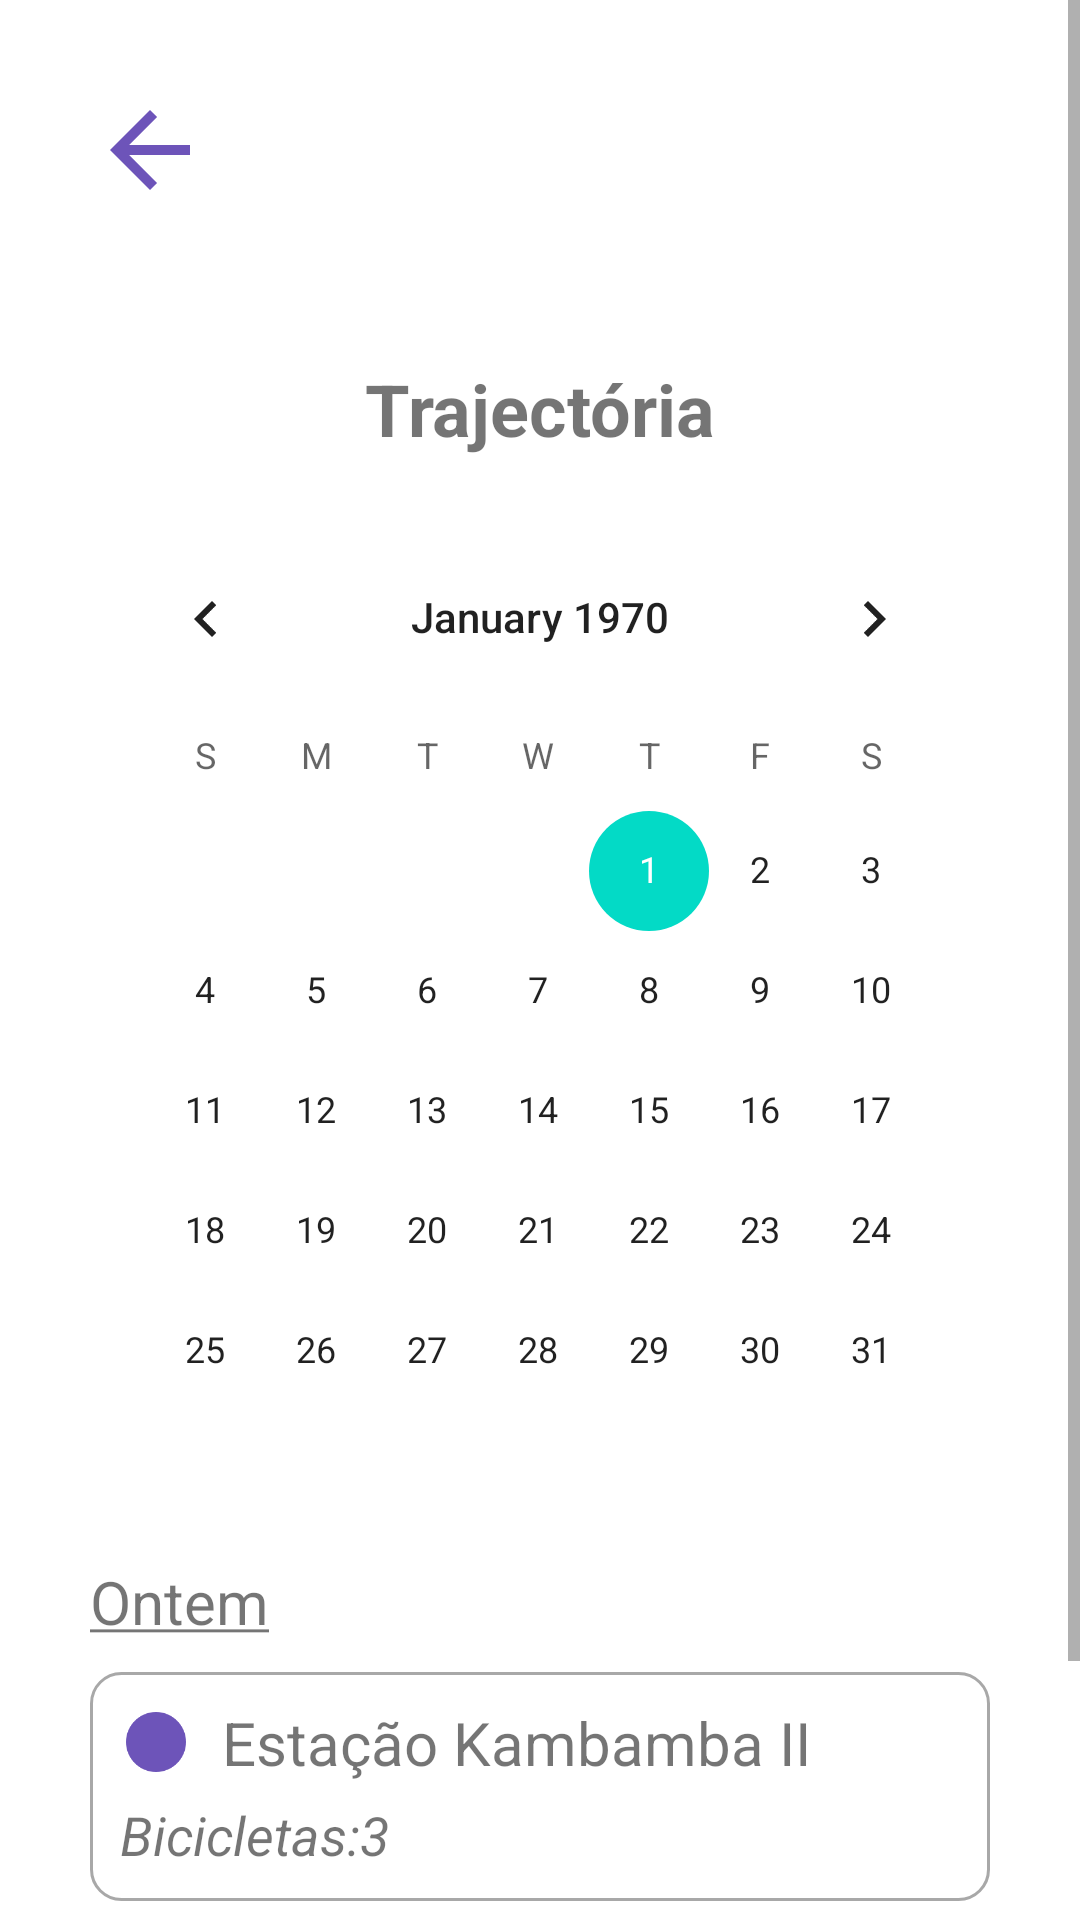

Where icons sit on this 1080w x 1920h app screen, as (x1, y1, x2, y2):
back: (110, 110, 190, 190)
